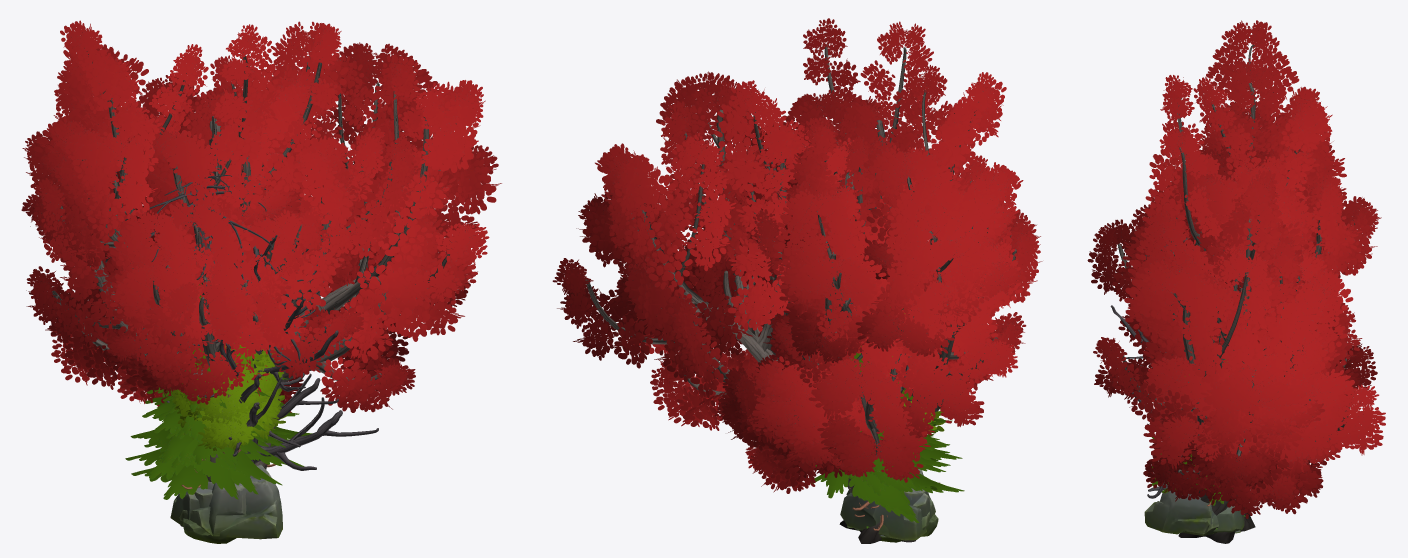
File: nature.glb
The picture shows the model from 3 angles, left to right: view 1: azimuth 30°, elevation 25°; view 2: azimuth 150°, elevation 25°; view 3: azimuth 270°, elevation 25°; orthographic projection. The views are drawn at different scales.
Parts seen in each view (by area): view 1: TwistedTree_2, TwistedTree_1, TwistedTree_3, DeadTree_2, Rock_Medium_3, Pine_2, Pine_5, Pine_4, CommonTree_3, CommonTree_2, CommonTree_1, Rock_Medium_1 (+3 smaller); view 2: TwistedTree_1, TwistedTree_2, TwistedTree_3, Pine_5, Rock_Medium_2, Pine_2, Pine_4; view 3: TwistedTree_1, TwistedTree_2, TwistedTree_3, Rock_Medium_3, Rock_Medium_2.
Part boxes in pixels (x1,y1,x2,y2): TwistedTree_2: (21,20,341,481); TwistedTree_1: (154,21,501,526); TwistedTree_3: (50,55,421,412); DeadTree_2: (180,219,378,470); Rock_Medium_3: (183,464,282,543); Pine_2: (131,410,291,499); Pine_5: (125,369,312,494); Pine_4: (130,283,288,489); CommonTree_3: (180,337,284,427); CommonTree_2: (171,343,284,453); CommonTree_1: (173,347,286,450); Rock_Medium_1: (179,482,246,536); TwistedTree_1: (552,71,915,543); TwistedTree_2: (753,18,1042,438); TwistedTree_3: (714,89,1040,493); Pine_5: (815,353,954,515); Rock_Medium_2: (840,488,926,540); Pine_2: (810,424,964,522); Pine_4: (849,307,962,530); TwistedTree_1: (1093,170,1385,543); TwistedTree_2: (1124,20,1348,373); TwistedTree_3: (1087,145,1381,509); Rock_Medium_3: (1144,484,1214,534); Rock_Medium_2: (1213,506,1244,532).
Size of the model in its own units: 17.96 by 19.08 by 11.71.
12 materials, 12 textured.
